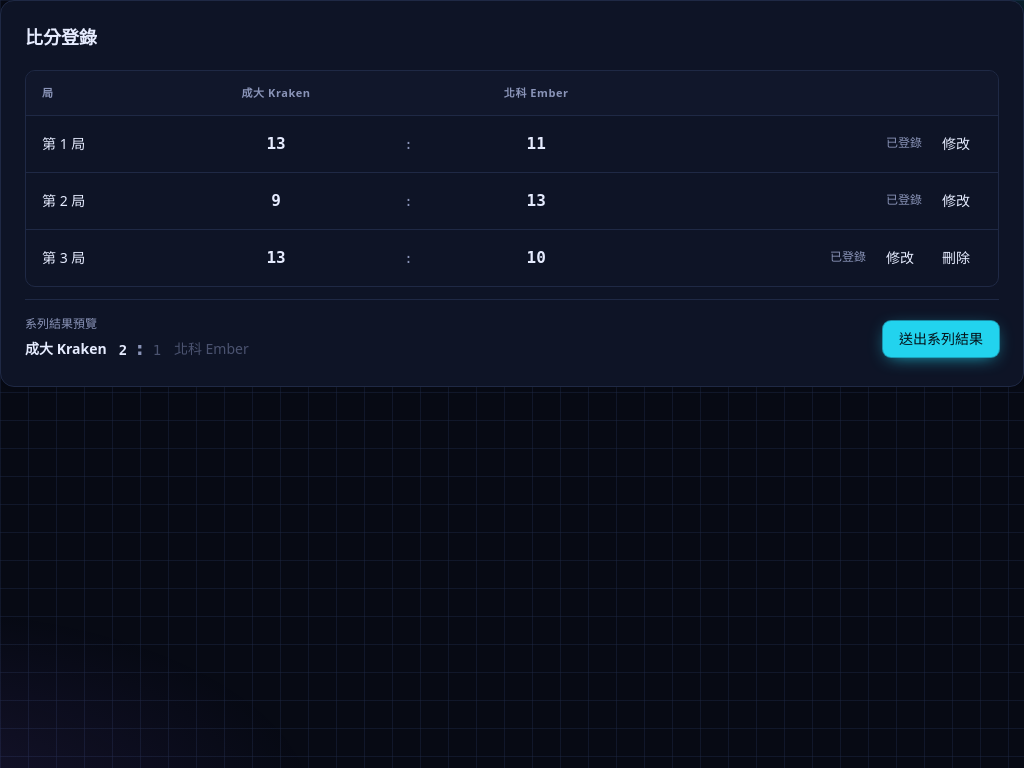
Test: S24 Score entry panel：修改與刪除 › 伺服器拒絕 redundant_games：該列顯示對應中文、可再編輯並重送
The image size is (1024, 768).
Click the 2nd button "修改": (956, 201) [930,185,982,217]
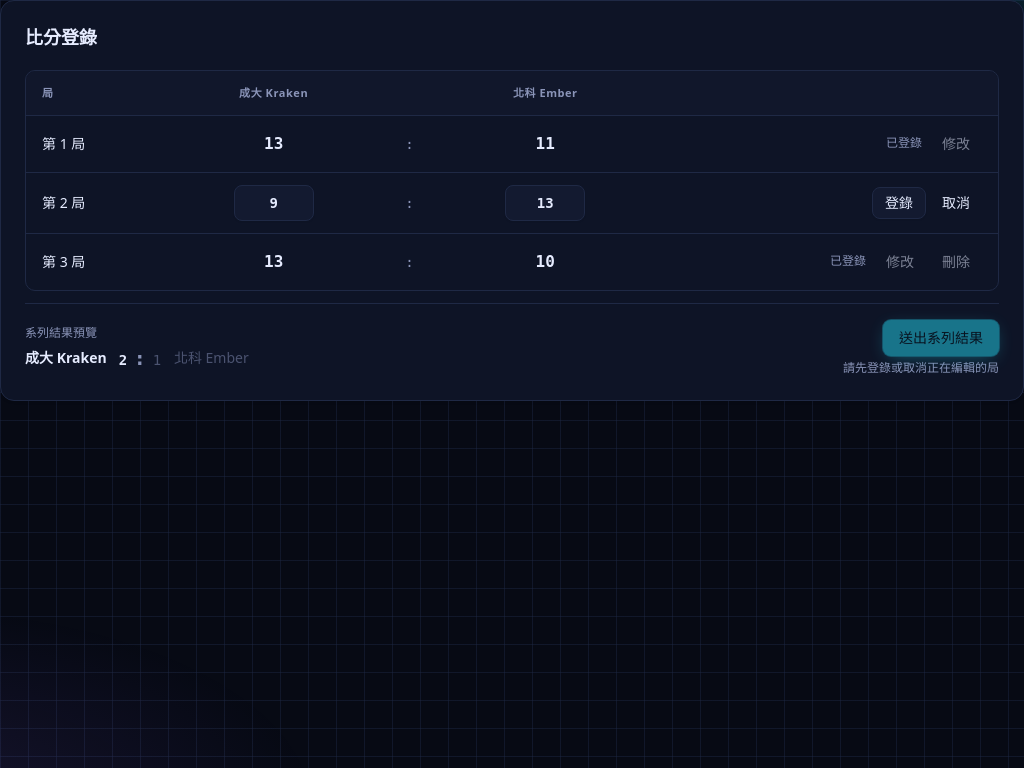
Replace the text in the field named "第 2 局 成大 Kraken 分數" with "14": (274, 203) [234,185,314,221]
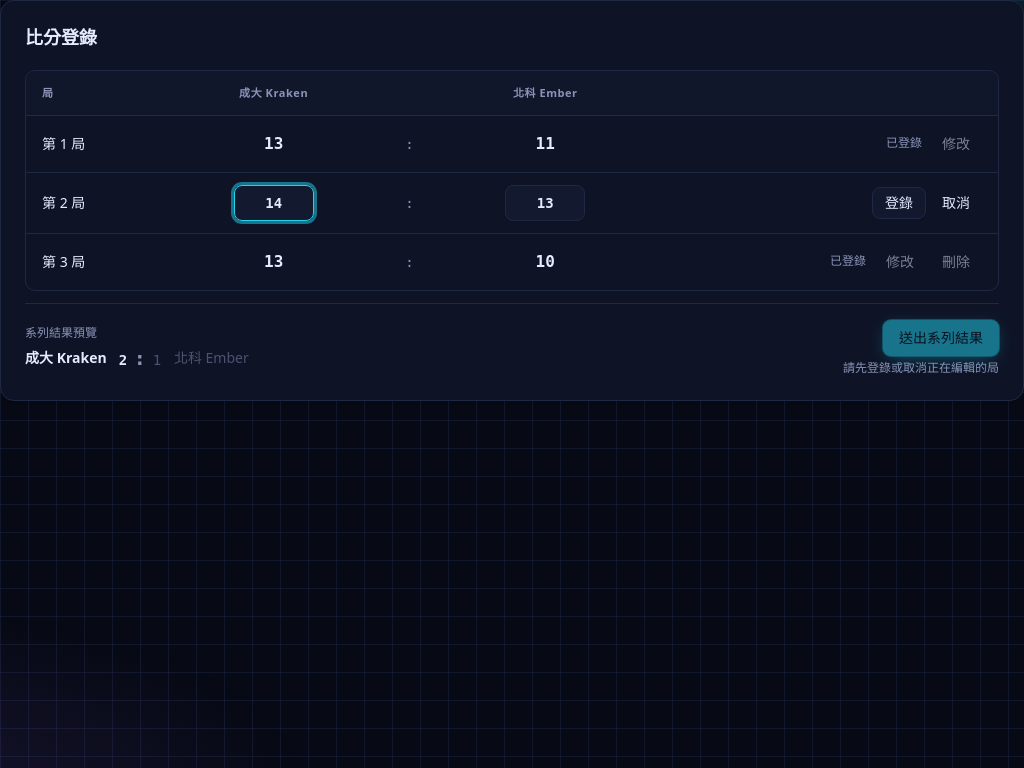
Click the button "登錄": (899, 203) [872,187,926,219]
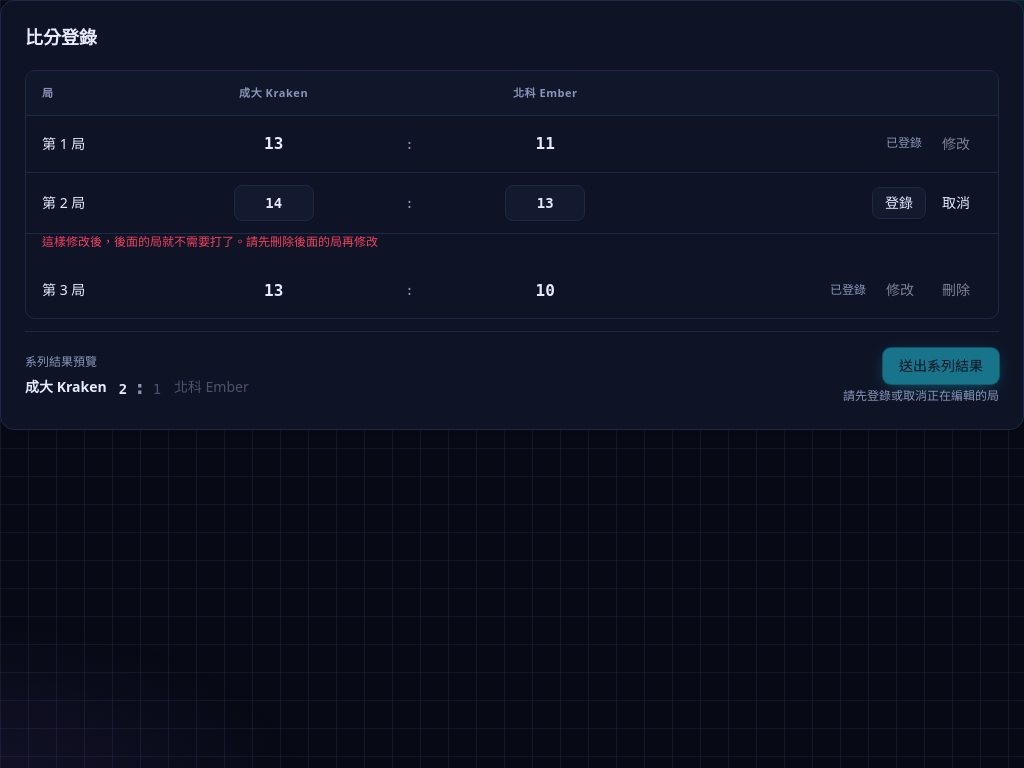
Now the message reads "這樣修改後，後面的局就不需要打了。請先刪除後面的局再修改", box [42,233,378,250]
Replace the text in the field named "第 2 局 成大 Kraken 分數" with "11": (274, 203) [234,185,314,221]
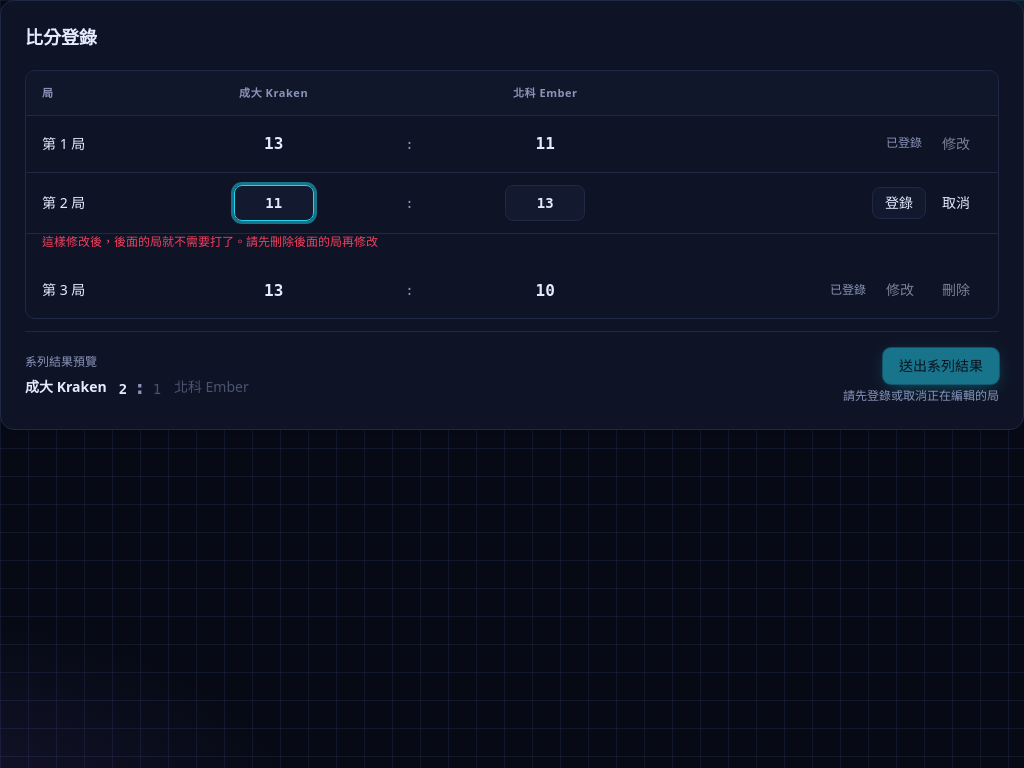
Click the button "登錄": (899, 203) [872,187,926,219]
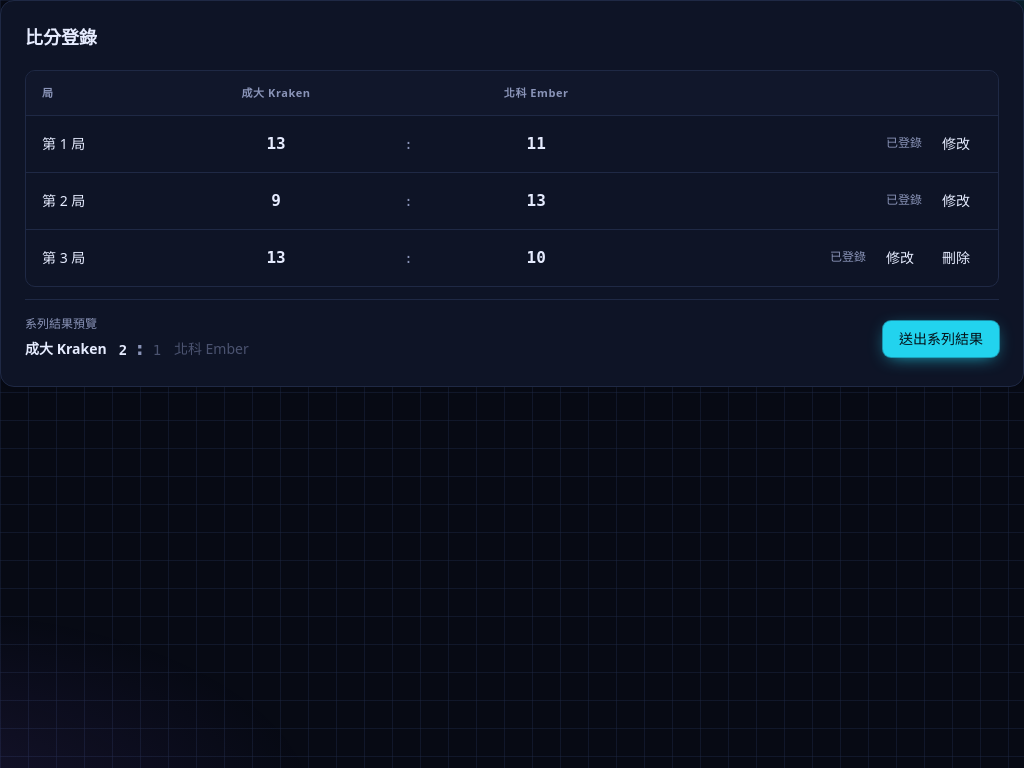
Now the 2nd text "已登錄" is shown, box [886,192,922,209]
Now the message "這樣修改後，後面的局就不需要打了。請先刪除後面的局再修改" is gone
